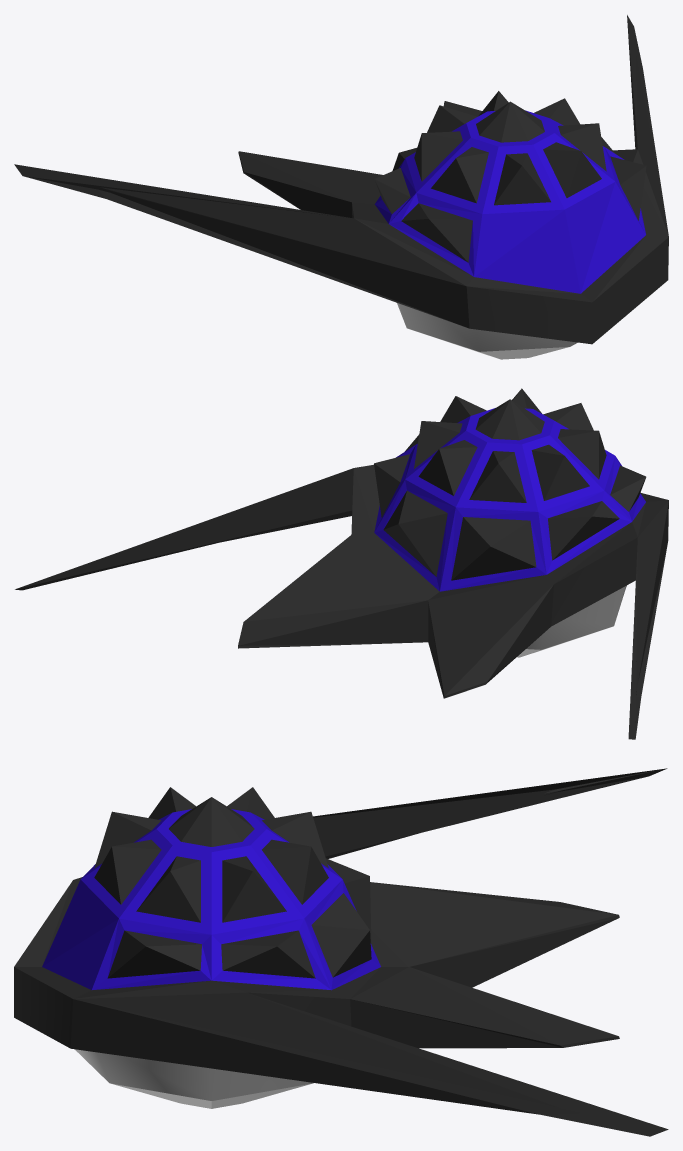
The model's file is Enemy08.FBX.
3 renders of one model, top to bottom at view 1: azimuth 30°, elevation 25°; view 2: azimuth 150°, elevation 25°; view 3: azimuth 270°, elevation 25°, orthographic. The views are drawn at different scales.
Parts seen in each view (by area): view 1: Cylinder006; view 2: Cylinder006; view 3: Cylinder006.
Part boxes in pixels (bbox=[...]): Cylinder006: bbox=[14, 15, 668, 359]; Cylinder006: bbox=[15, 388, 668, 739]; Cylinder006: bbox=[14, 768, 668, 1136].
Bounding box in the file's own units: 153 × 58.18 × 118.
